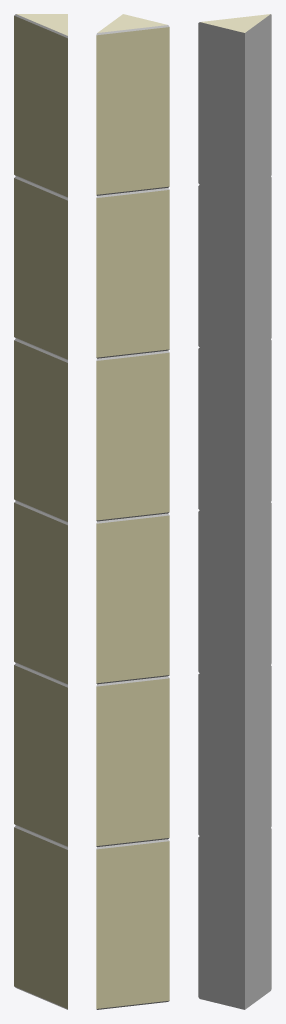
File: ExteriorWall_EndCap_UL45_ExportPrep.gltf
The picture shows the model from 3 angles, left to right: view 1: azimuth 90°, elevation 25°; view 2: azimuth 150°, elevation 25°; view 3: azimuth 330°, elevation 25°; orthographic projection.
Visible parts, largest first — view 1: ExteriorWall_EndCap_45; view 2: ExteriorWall_EndCap_45; view 3: ExteriorWall_EndCap_45.
Boxes of the visible parts, x1=… form: ExteriorWall_EndCap_45: x1=14, y1=14, x2=67, y2=1009; ExteriorWall_EndCap_45: x1=96, y1=14, x2=169, y2=1009; ExteriorWall_EndCap_45: x1=198, y1=14, x2=271, y2=1009.
Bounding box in the file's own units: 0.15 × 3 × 0.15.
